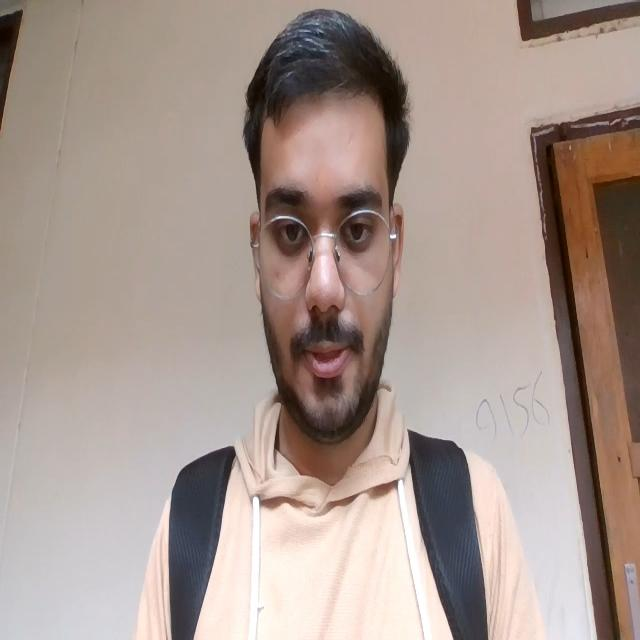awake: (258, 172, 379, 385)
